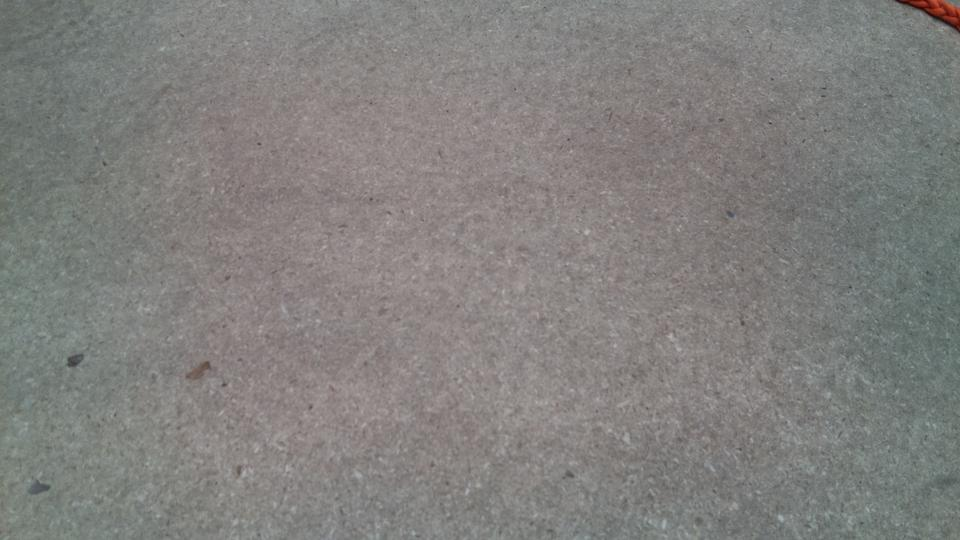rope: (900, 1, 959, 34)
